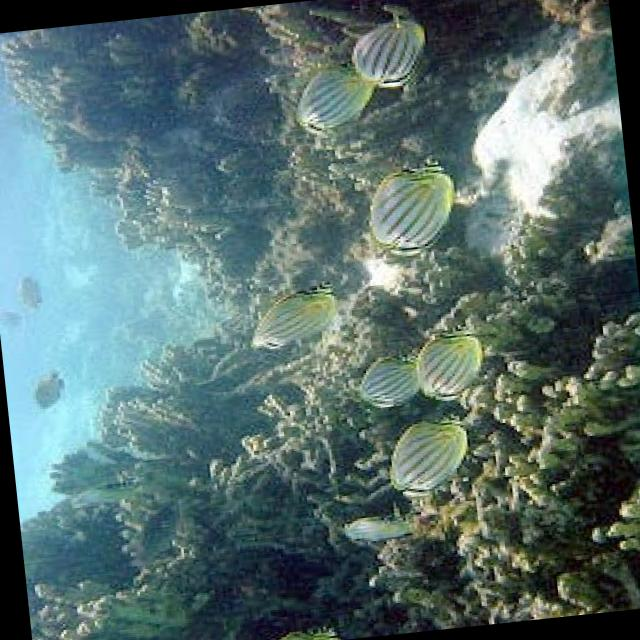ButterflyFish: (338, 143, 479, 276), (282, 36, 386, 141), (338, 4, 434, 100), (386, 406, 473, 498), (421, 315, 501, 414), (245, 274, 342, 346), (332, 498, 434, 564), (361, 336, 434, 414), (264, 620, 351, 640)
